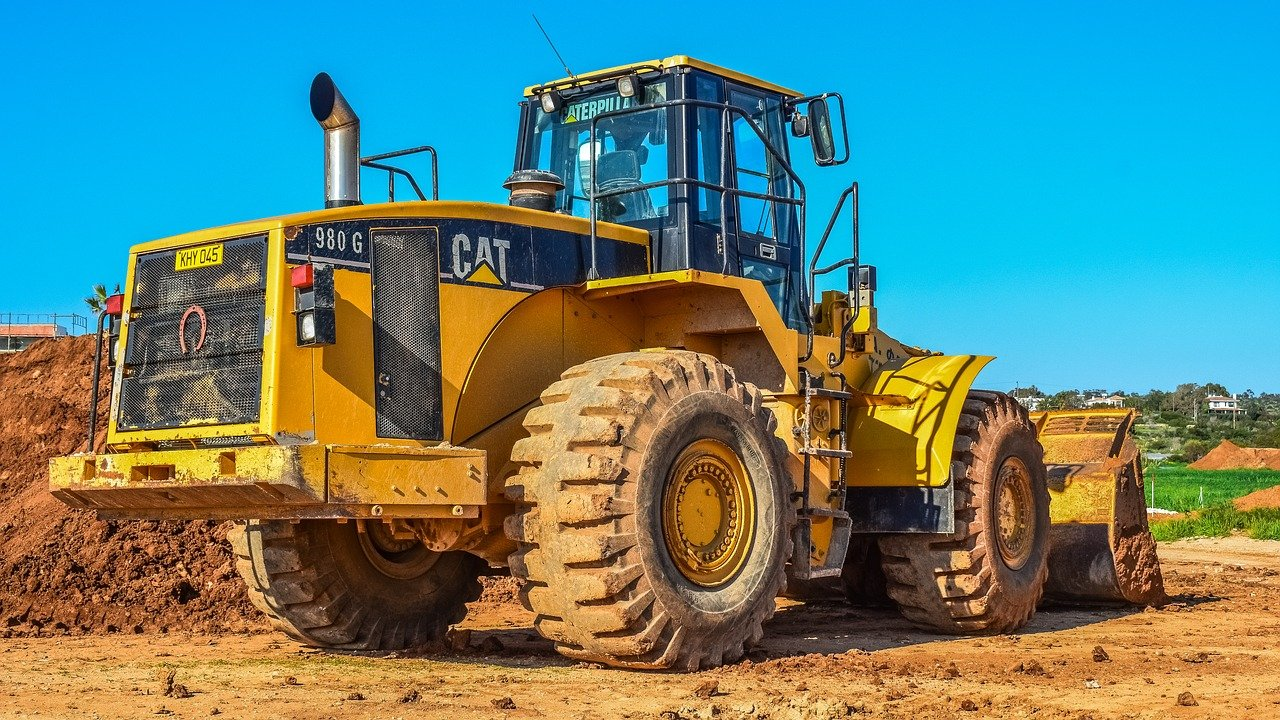bulldozer: (53, 41, 1177, 647)
